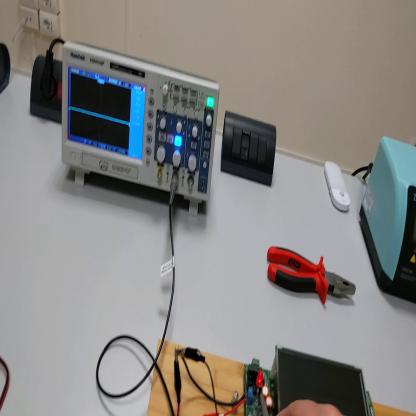hand: (276, 399, 340, 415)
low voltage board: (181, 349, 375, 416)
oscilloscope: (62, 42, 223, 220)
pliers: (267, 246, 357, 305)
socket: (31, 56, 62, 126), (1, 39, 13, 98)
welder station: (361, 131, 416, 303)
working area: (142, 340, 415, 415)
